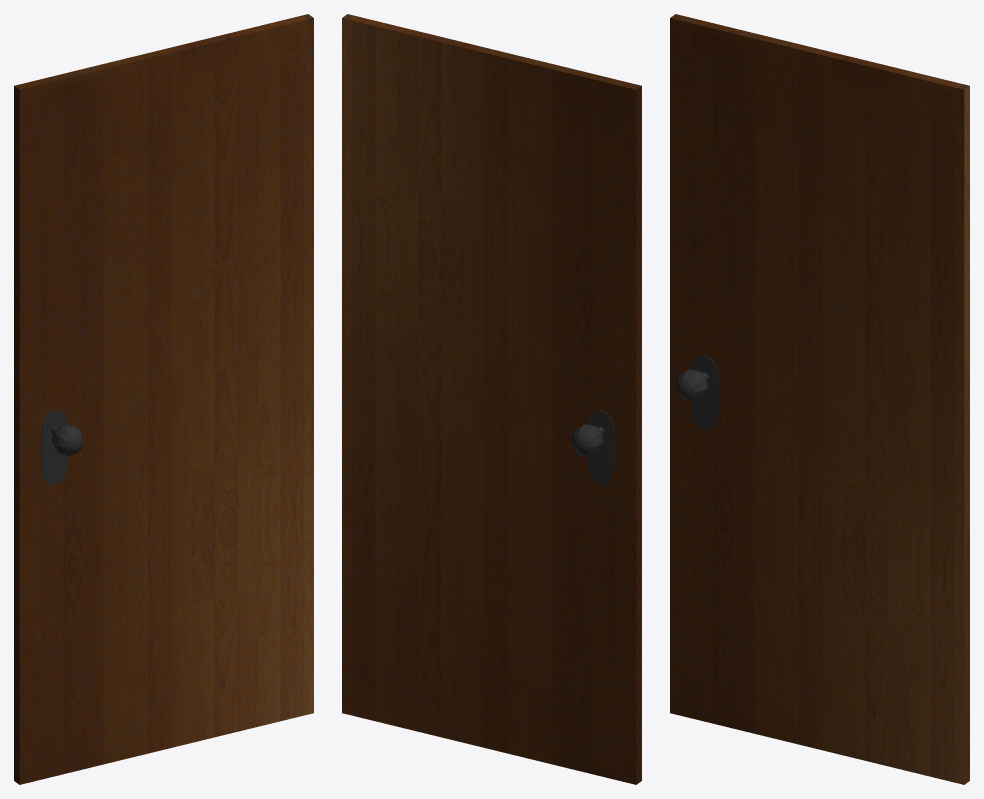
File: Door.obj
The picture shows the model from 3 angles, left to right: view 1: azimuth 30°, elevation 25°; view 2: azimuth 150°, elevation 25°; view 3: azimuth 330°, elevation 25°; orthographic projection.
Parts seen in each view (by area): view 1: pCube1 Mesh, pPlane3 Mesh; view 2: pCube1 Mesh, pPlane2 Mesh; view 3: pCube1 Mesh, pPlane3 Mesh.
Boxes of the visible parts, box(x1,y1,x2,y2) form: pCube1 Mesh: box(14, 14, 313, 784); pPlane3 Mesh: box(41, 410, 84, 484); pCube1 Mesh: box(342, 14, 641, 784); pPlane2 Mesh: box(571, 410, 614, 484); pCube1 Mesh: box(670, 14, 969, 784); pPlane3 Mesh: box(675, 356, 718, 429).
Size of the model in its own units: 10.1 by 22.8 by 2.88.
3 materials, 1 textured.
